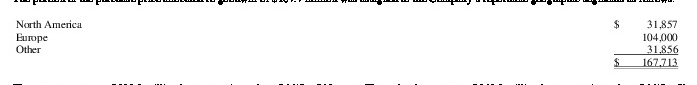table: (0, 0, 697, 85)
